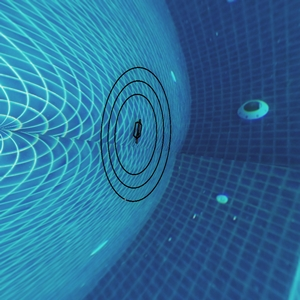circle: (98, 56, 187, 230)
